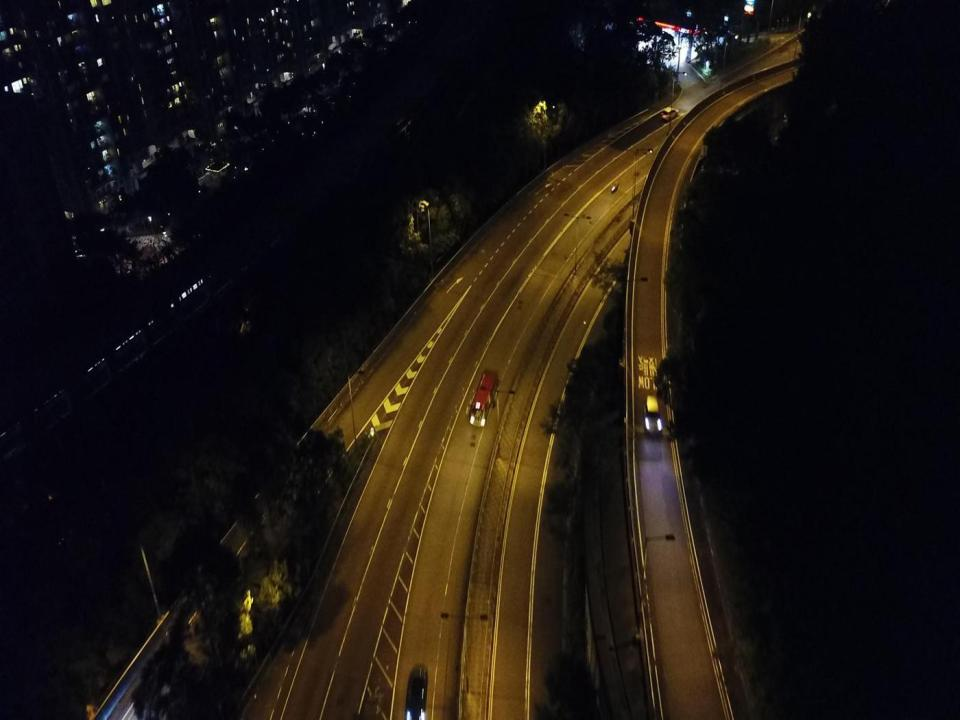bus: (468, 372, 499, 427)
car: (405, 675, 429, 719), (642, 393, 662, 437), (660, 107, 678, 122)
